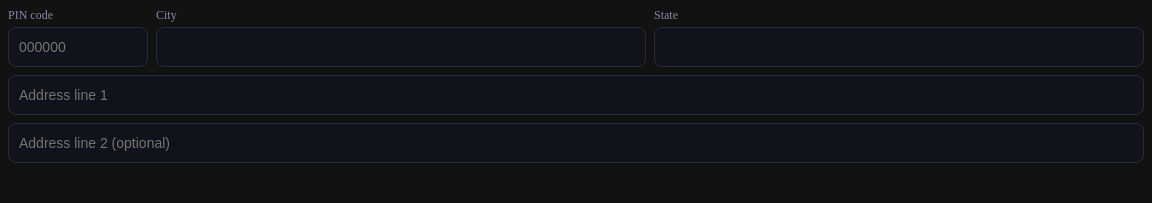
Test case: TkxAddressInput › shows error when lookup returns empty
This screenshot has width=1152, height=203.
Type "999999" into the field with placeholder "000000". click: [78, 47]
box: x1=8 y1=27 x2=148 y2=67
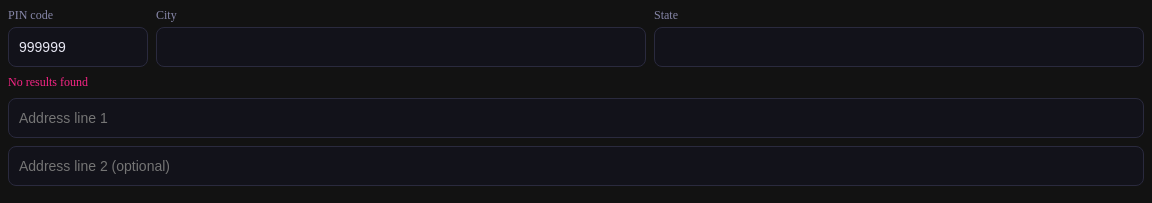
Expected: the message "No results found" is shown, x1=8 y1=75 x2=88 y2=89
